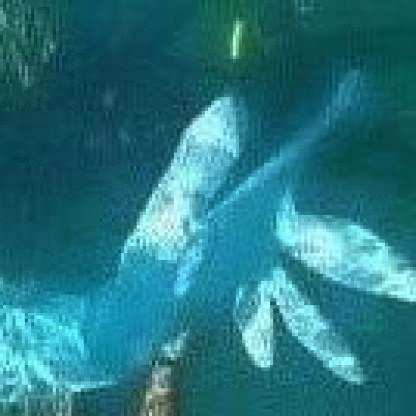glove: (3, 76, 413, 413)
